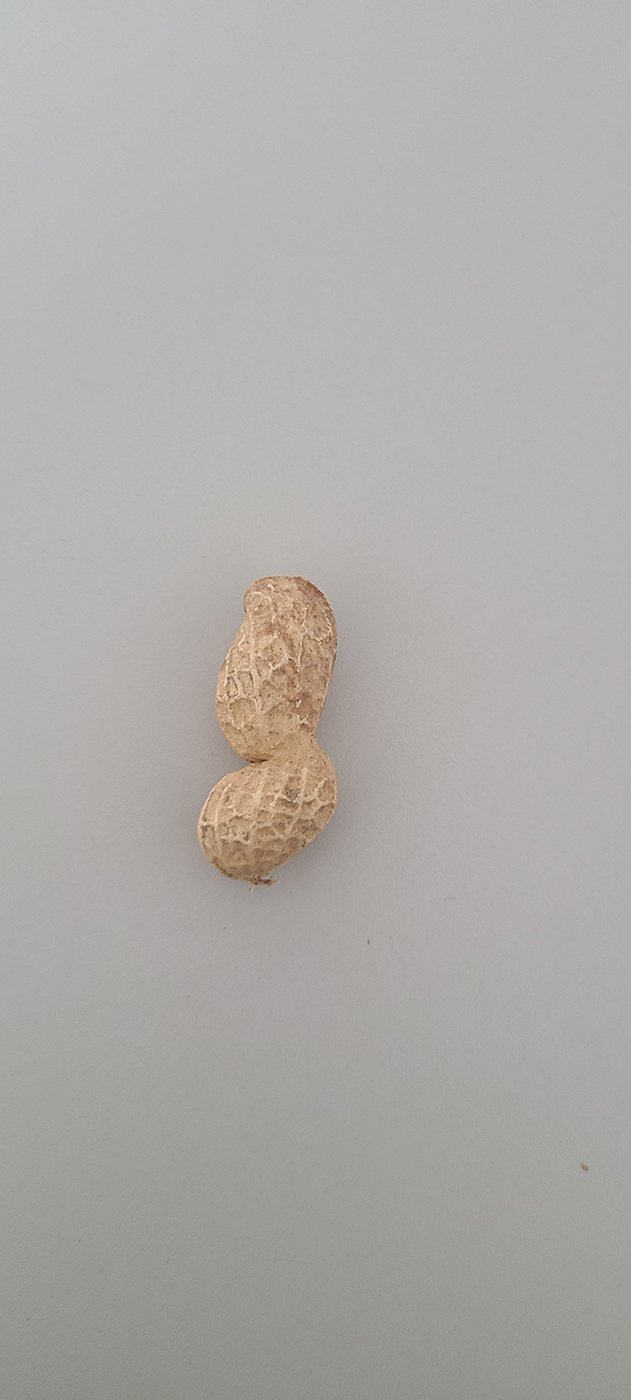h: (197, 572, 342, 887)
